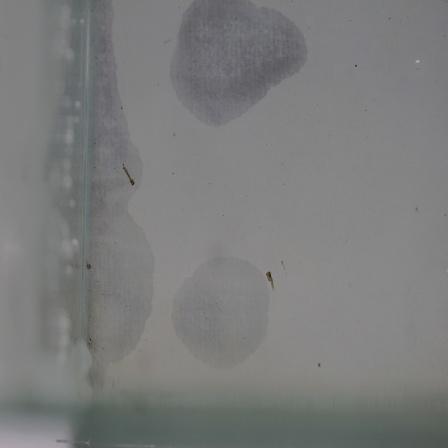Jentik-Nyamuk: (119, 159, 138, 189), (263, 267, 278, 296)
